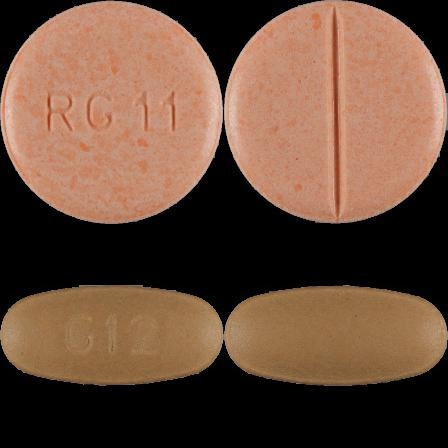10544-547: (0, 0, 224, 224)
